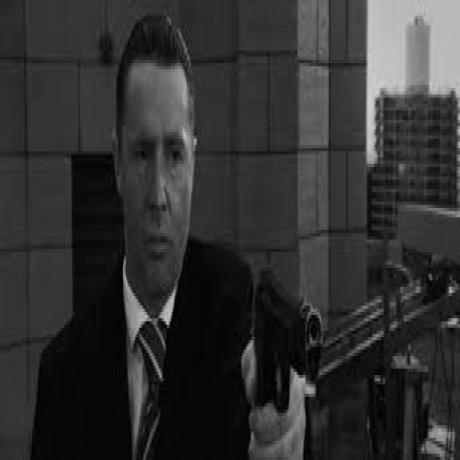Guns: (250, 263, 322, 424)
